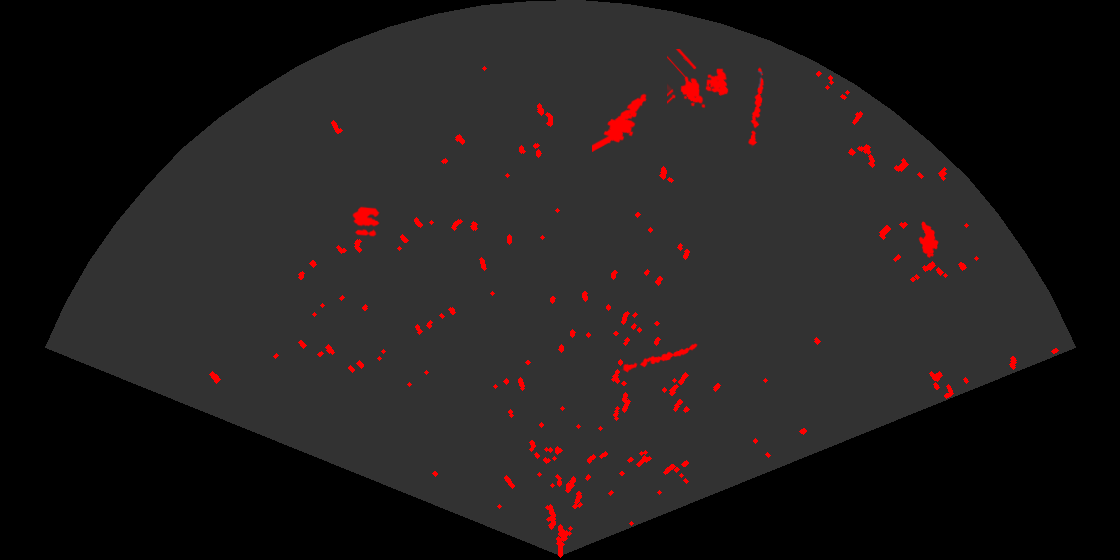AUV: (917, 220, 940, 260)
ball: (351, 205, 381, 238)
cage: (667, 49, 730, 110)
chain: (620, 342, 699, 374), (747, 65, 766, 148)
frogman: (592, 92, 648, 152)
